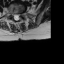CCS_normal: (15, 12, 17, 22)
LFS_stenosis: (19, 11, 22, 17)
LLS_normal: (17, 12, 19, 21)
RFS_normal: (10, 11, 13, 17)
RLS_normal: (13, 12, 15, 21)
